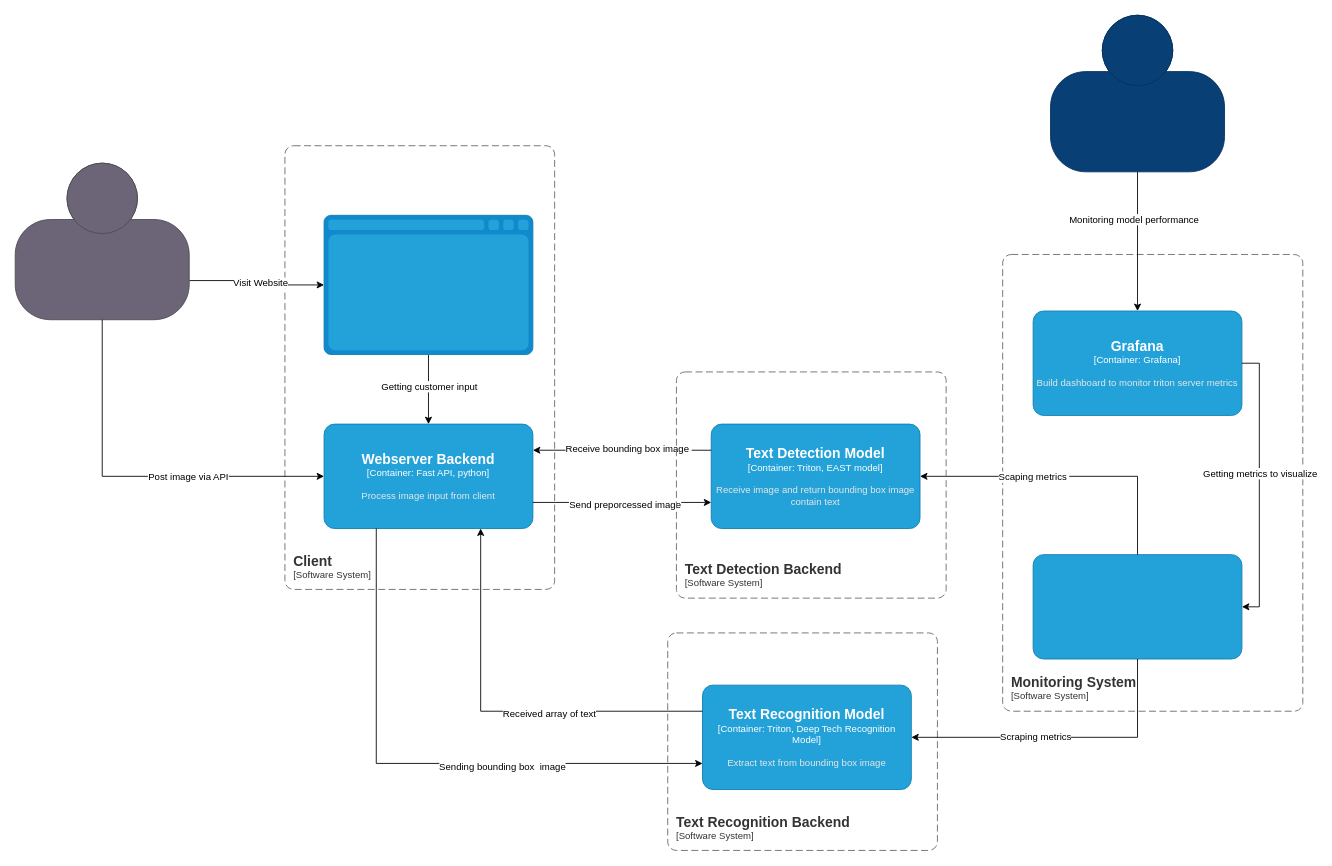
Image size: 1332x866. Some labels were removed from this diagram. The centre of each missing label's shape, as x and y in pixels:
[Customer] Using text detection product: the point at 101,241
Engineer [Person]: the point at 1137,93
Prometheus [Container: prometheus] Collecting metrics from triton servers: the point at 1137,606
Webserver FrontEnd [Container: Python, Streamlit] Webserver to upload image: the point at 428,284
